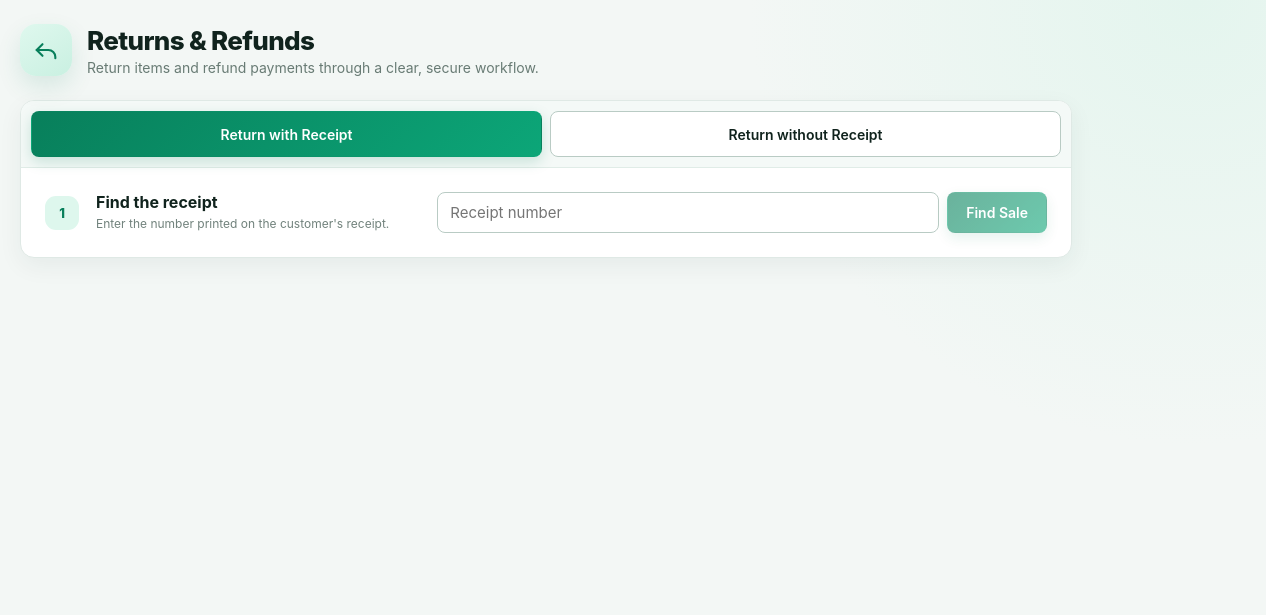
Scenario: ReturnsPage › looks up a receipt and submits selected return quantities
Type "1001" into the number field labelled "Receipt number" at (688, 212), box top-left (437, 192), bottom-right (939, 233)
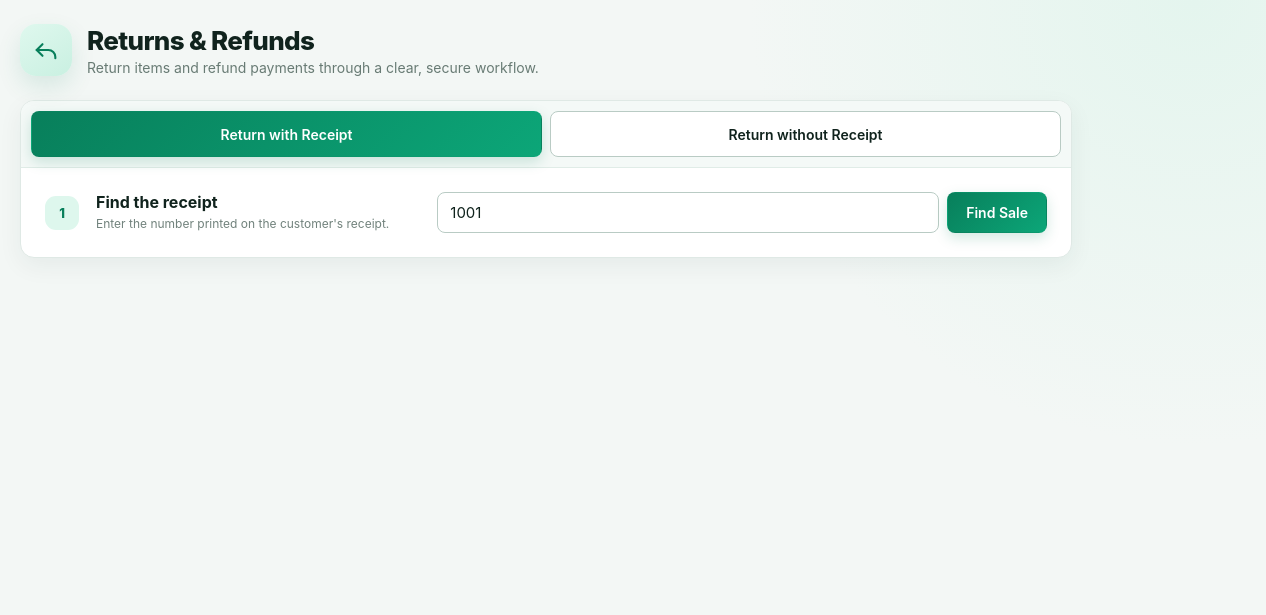
Click the button "Find Sale" at (997, 212), box top-left (947, 192), bottom-right (1047, 233)
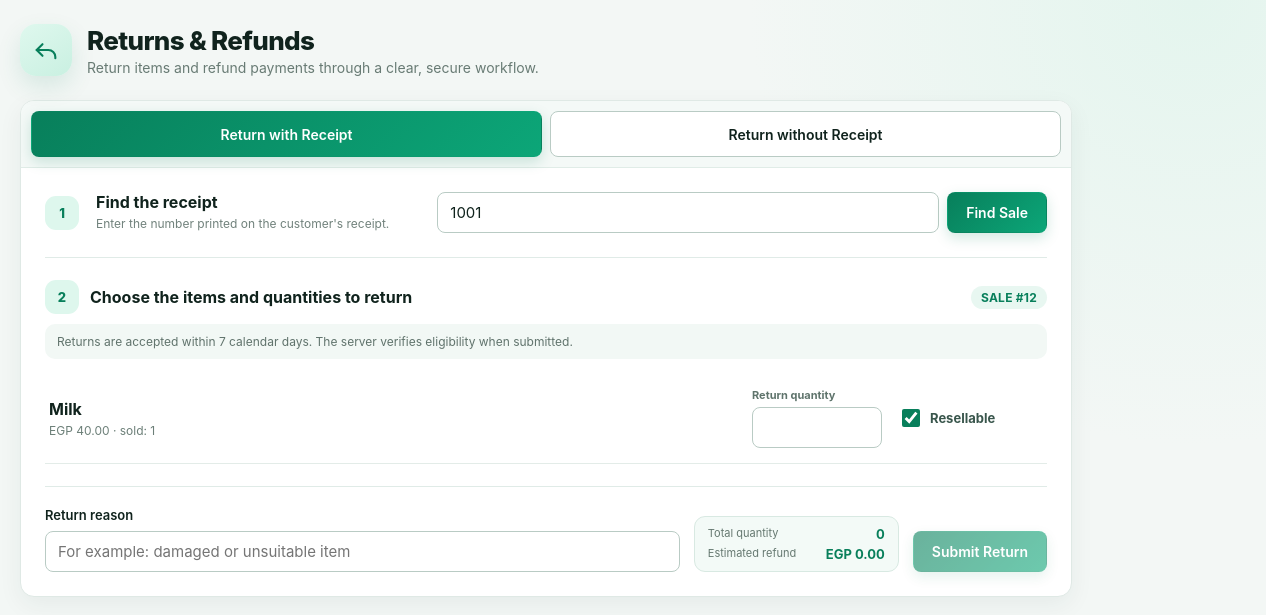
Now the text "Milk" is shown, box top-left (49, 398), bottom-right (82, 418)
Type "1" into the number field named "Return quantity 8" at (817, 428), box top-left (752, 407), bottom-right (882, 448)
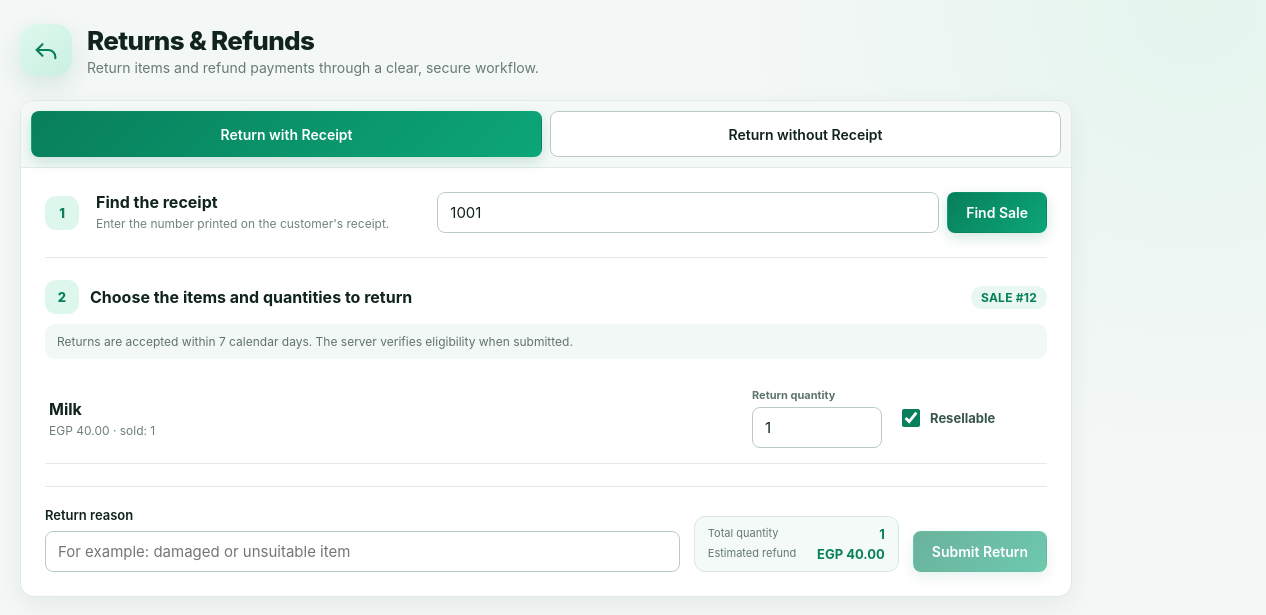
Type "Changed mind" into the field named "Return reason" at (362, 552), box top-left (45, 531), bottom-right (680, 572)
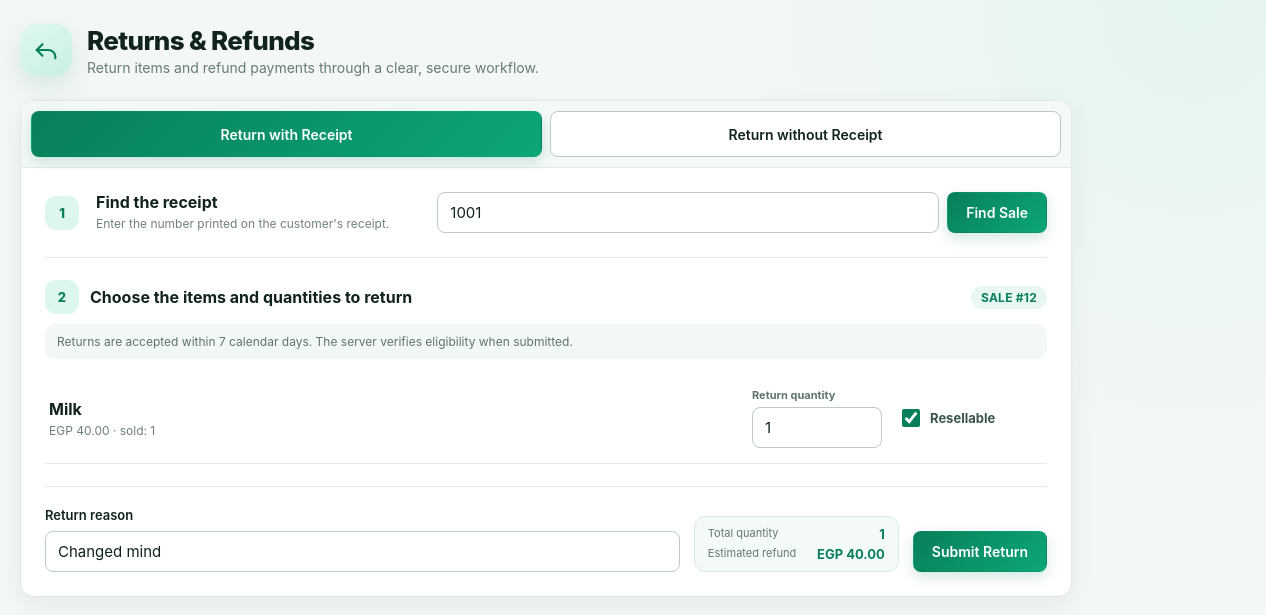
Click the button "Submit Return" at (980, 552), box top-left (913, 531), bottom-right (1047, 572)
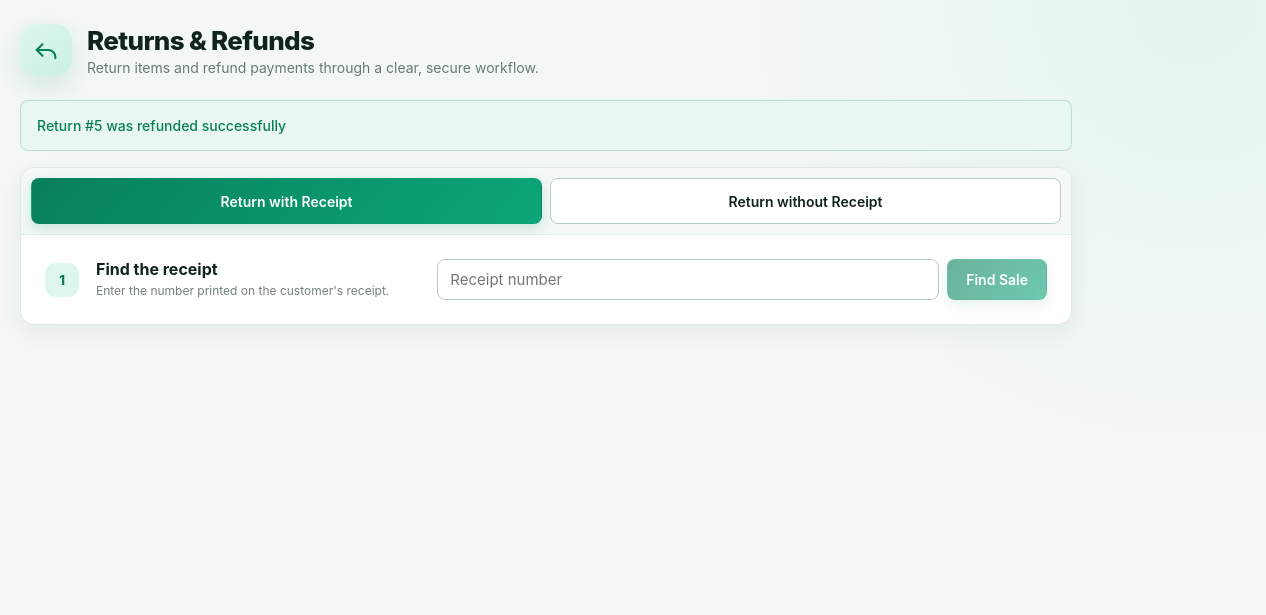
Now the text "Return #5 was refunded successfully" is shown, box top-left (20, 100), bottom-right (1072, 151)
